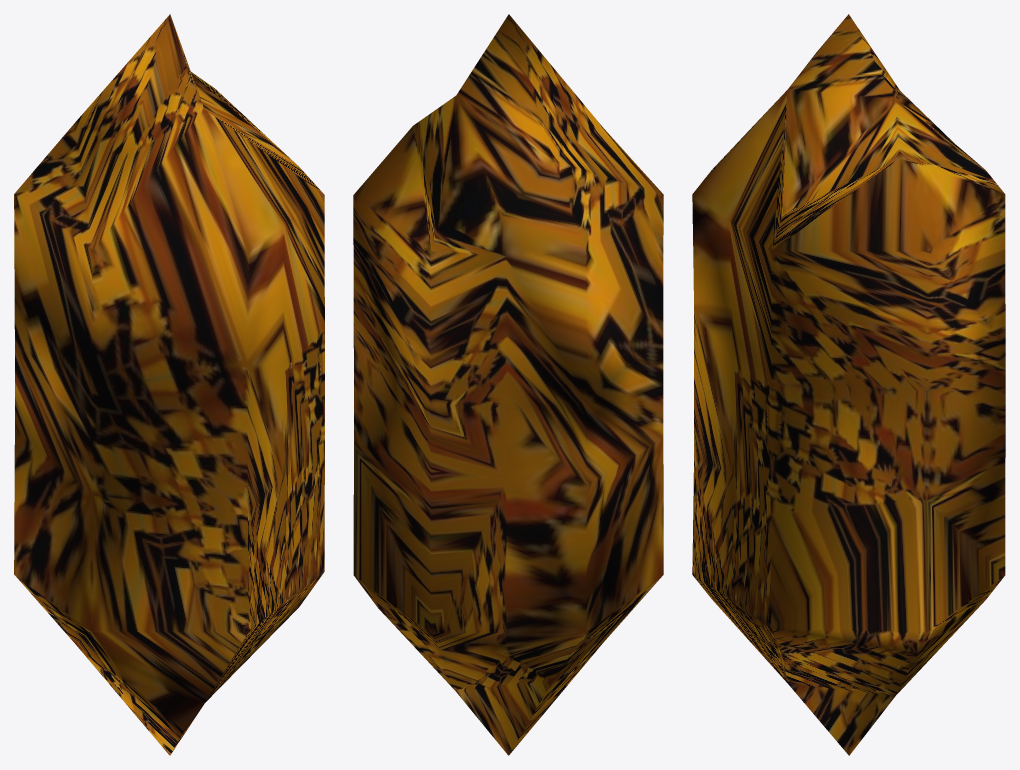
The model's file is cristal.glb.
The picture shows the model from 3 angles, left to right: view 1: azimuth 30°, elevation 25°; view 2: azimuth 150°, elevation 25°; view 3: azimuth 270°, elevation 25°; orthographic projection.
Parts seen in each view (by area): view 1: geometry_0; view 2: geometry_0; view 3: geometry_0.
Part boxes in pixels (box(x1,y1,x2,y2)): geometry_0: box(14, 14, 324, 755); geometry_0: box(353, 14, 663, 755); geometry_0: box(692, 14, 1005, 755).
Bounding box in the file's own units: 0.311 × 0.9482 × 0.3628.
Materials: 1 (1 with a texture image).
